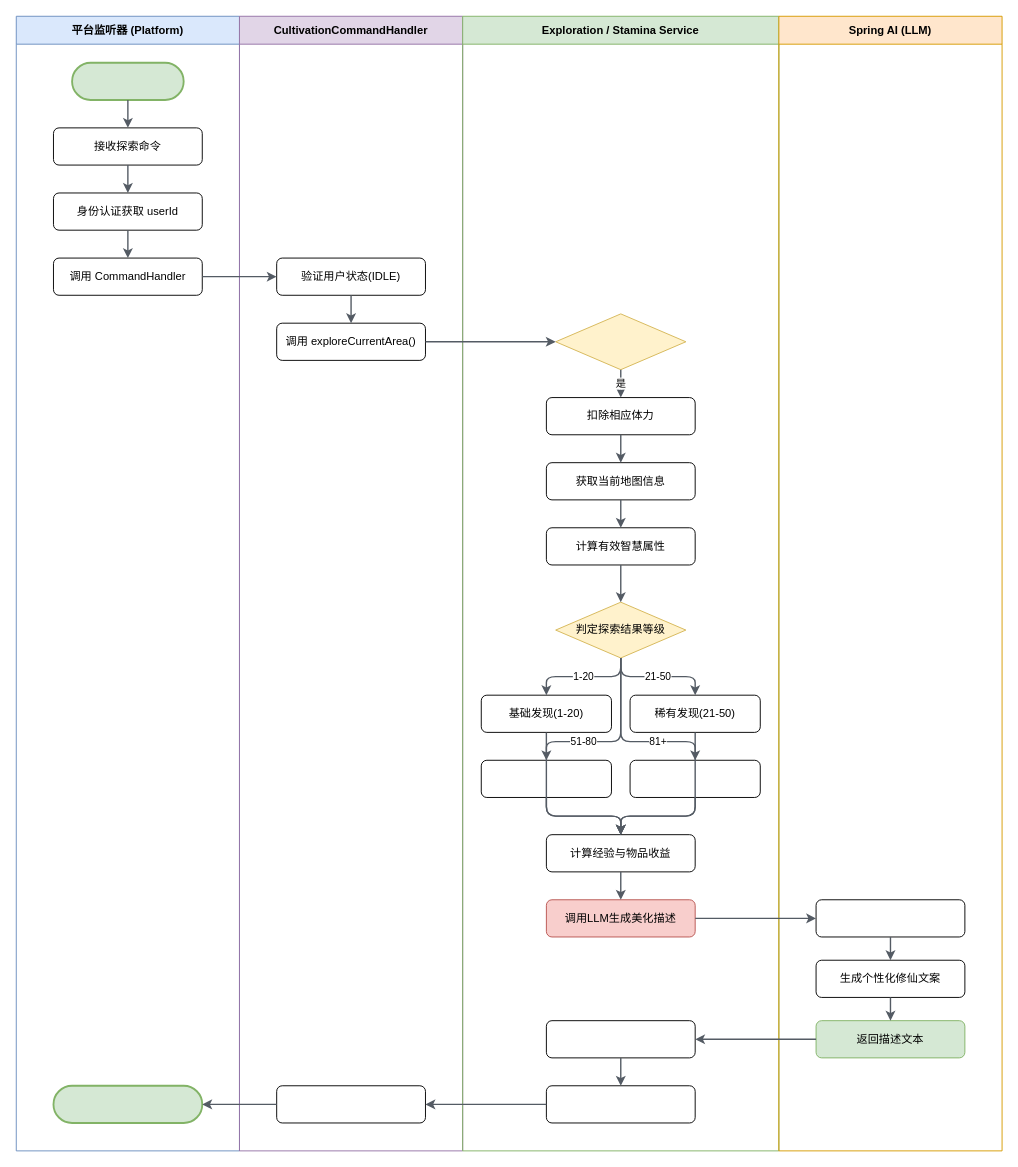
Some shapes in this 1018 by 1167 pixel diagram are drawn without their labels. Here are the shapes that lost their labels. From the top down, the centre of each, then its label:
At point 127,80: "开始探索".
At point 620,341: "检查体力是否足够".
At point 545,778: "重大发现(51-80)".
At point 694,778: "惊人发现(81+)".
At point 890,918: "接收 Prompt 请求".
At point 620,1039: "应用奖励到用户".
At point 127,1103: "渲染并回复探索结果".
At point 350,1104: "格式化探索结果消息".
At point 620,1104: "保存用户数据库".
